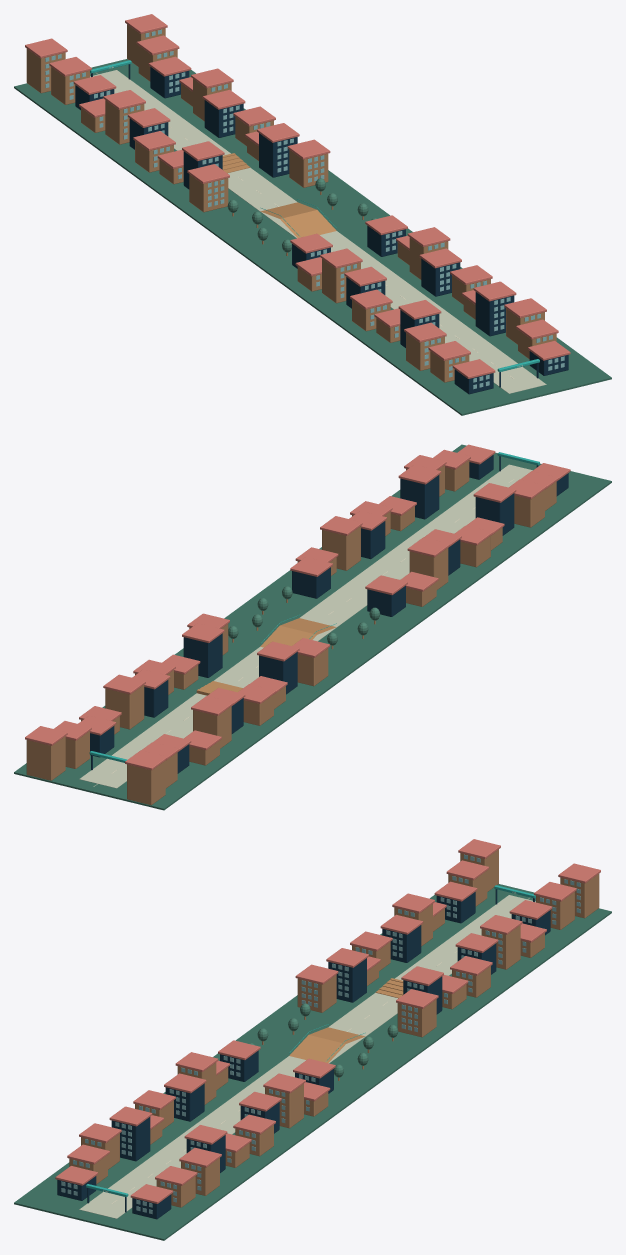
File: festival-campus.glb
3 views of the same model, one above another, from view 1: azimuth 30°, elevation 25°; view 2: azimuth 150°, elevation 25°; view 3: azimuth 330°, elevation 25° (orthographic).
Parts seen in each view (by area): view 1: Venue; view 2: Venue; view 3: Venue.
Boxes of the visible parts, x1,y1,x2,y2 form: Venue: (14,14,611,415); Venue: (14,444,611,810); Venue: (14,839,611,1240).
Size of the model in its own units: 48 by 12.2 by 248.
